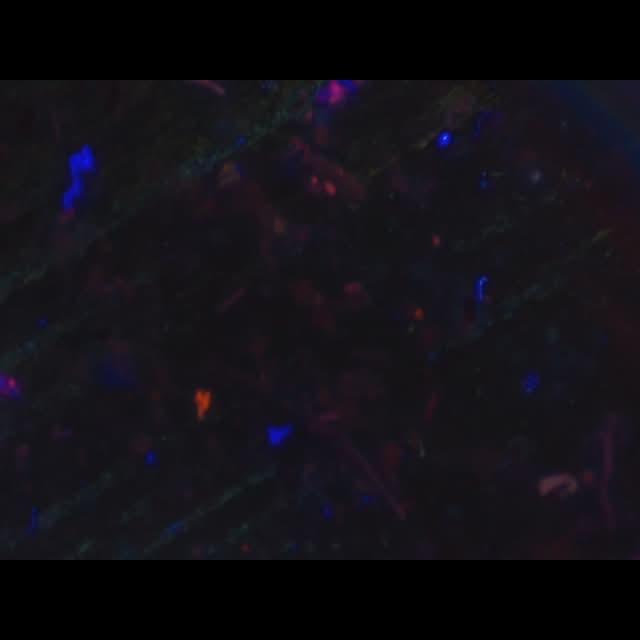Fragment: (194, 387, 212, 418)
